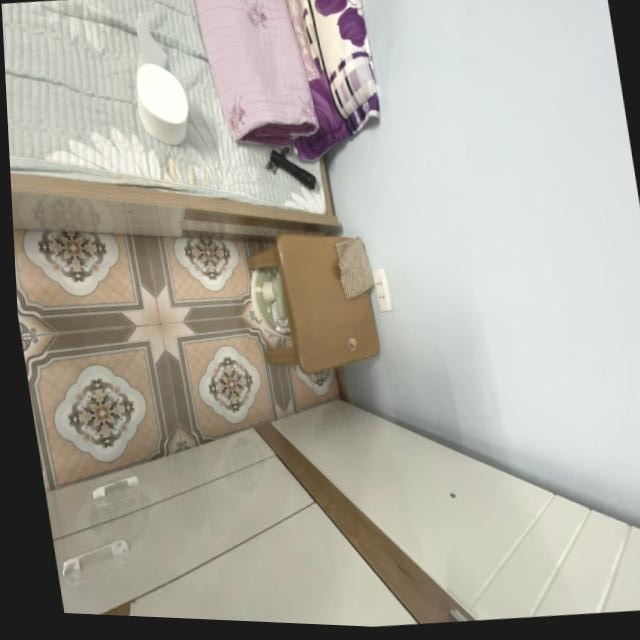outlet: (372, 266, 394, 312)
